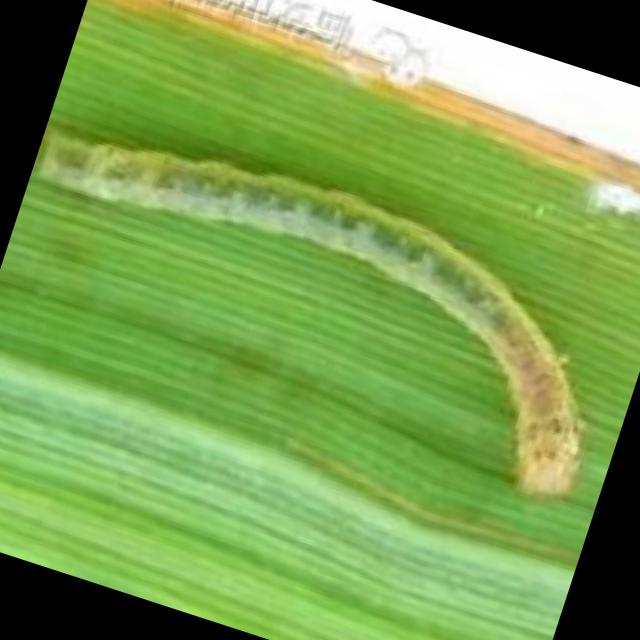leaf-folder: (0, 77, 640, 527)
